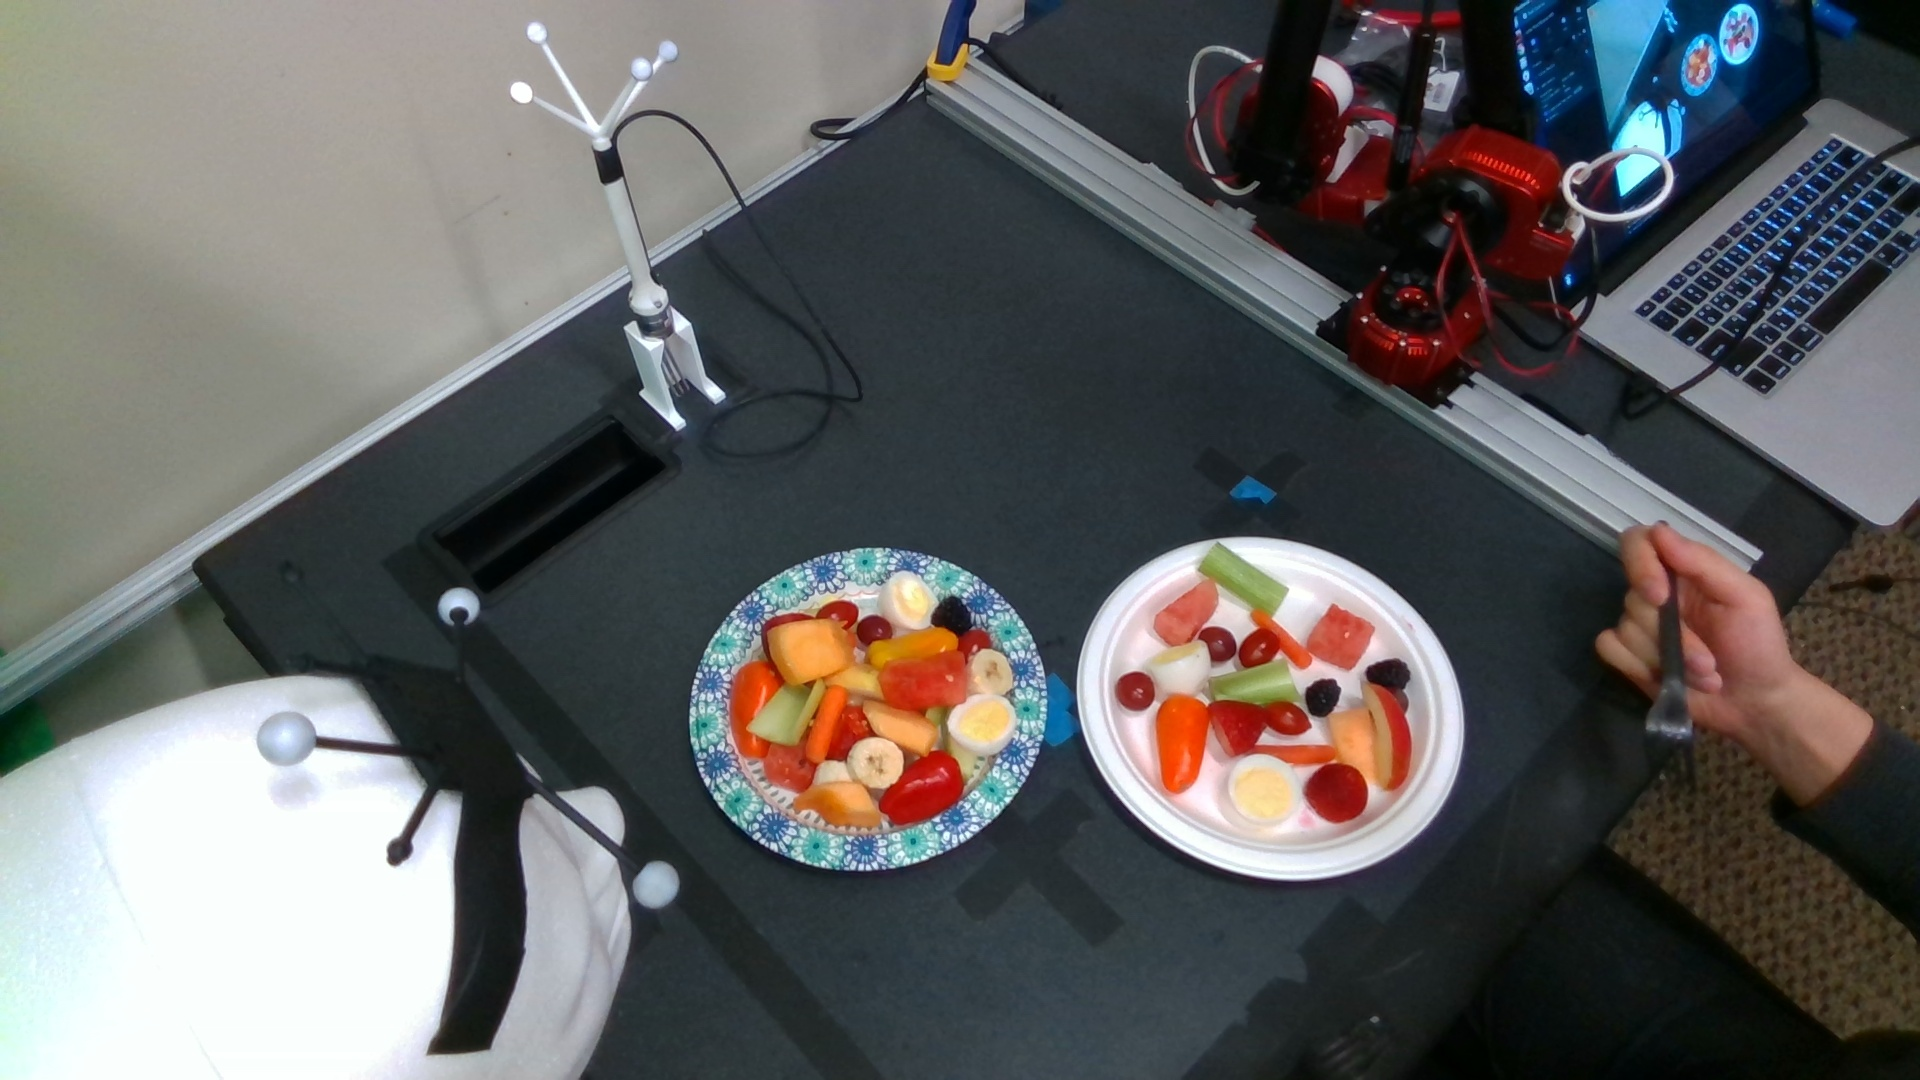apple: (1357, 678, 1414, 790)
banana: (848, 738, 902, 787), (968, 649, 1014, 698)
bell pepper: (880, 749, 961, 825), (1154, 698, 1207, 793), (728, 663, 778, 760)
blackberry: (1305, 676, 1344, 717), (932, 597, 972, 636), (1367, 654, 1408, 688)
cantalope: (766, 618, 855, 682), (1327, 707, 1385, 794), (860, 702, 938, 754), (793, 781, 877, 827)
carrot: (811, 687, 849, 764), (1242, 744, 1333, 762)
celery: (1197, 541, 1287, 615), (750, 680, 823, 742), (1207, 659, 1296, 705)
cherry tomato: (1236, 629, 1284, 669), (1261, 703, 1313, 735), (816, 601, 860, 630)
egg: (1228, 756, 1298, 825), (948, 692, 1017, 756), (1143, 645, 1211, 698), (877, 570, 938, 626)
grape: (1116, 671, 1155, 709), (1360, 754, 1400, 789), (1201, 624, 1236, 659), (858, 615, 891, 644)
melon: (880, 651, 967, 708), (1151, 578, 1222, 645), (1309, 605, 1374, 669), (764, 742, 816, 793)
plate: (1075, 535, 1468, 886), (684, 545, 1046, 872)
strawberry: (1204, 699, 1267, 760), (1305, 764, 1370, 823)
